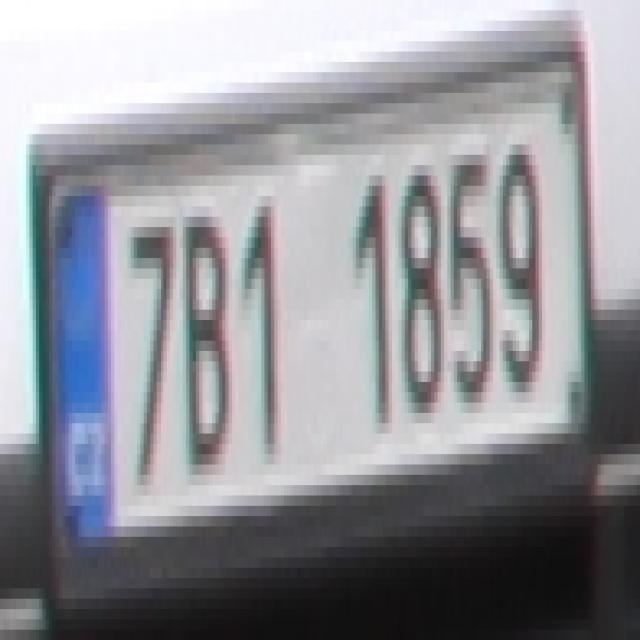1: (352, 154, 396, 433), (242, 196, 280, 454)
5: (454, 134, 490, 392)
7: (120, 207, 176, 486)
8: (396, 155, 440, 413)
9: (493, 134, 539, 403)
B: (183, 196, 232, 475)
